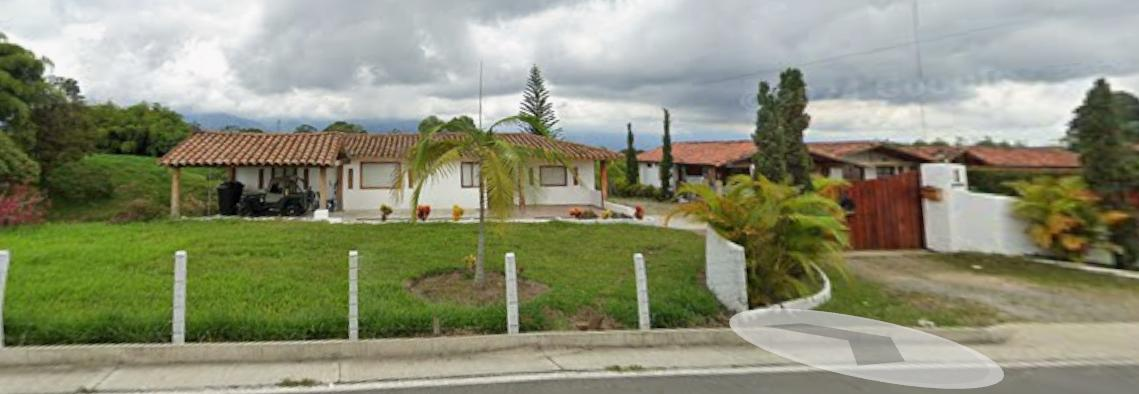casa: (160, 131, 653, 229), (807, 141, 1079, 254), (670, 140, 758, 193), (639, 147, 663, 188)
